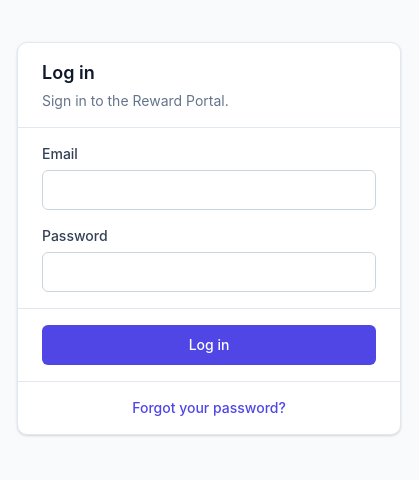
Scenario: LoginPage › TC-2: an invalid password shows the generic message and clears only the password field
Type "ada@example.com" into the field labelled "Email" at (209, 190), box [42, 170, 376, 210]
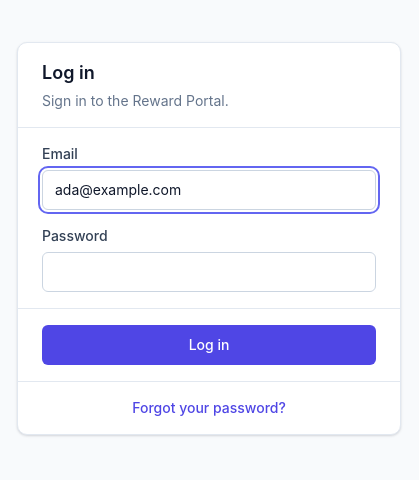
Type "wrong-password" into the password field labelled "Password" at (209, 272), box [42, 252, 376, 292]
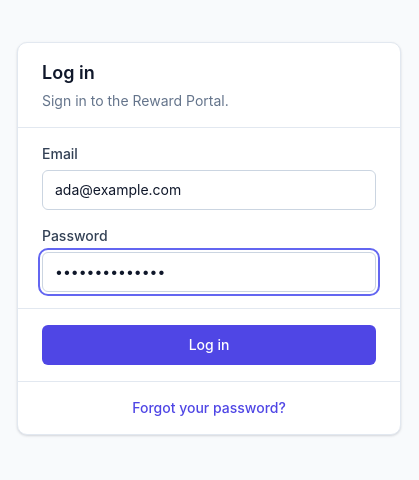
Click the button "Log in" at (209, 344), box [42, 324, 376, 364]
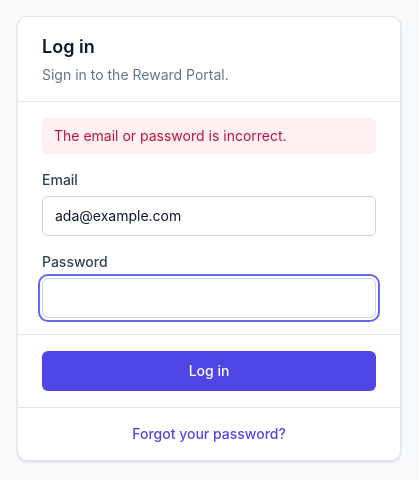
Check: the message reads "The email or password is incorrect.", box [54, 126, 287, 144]
Check: the password field labelled "Password" is empty, box [42, 278, 376, 318]
